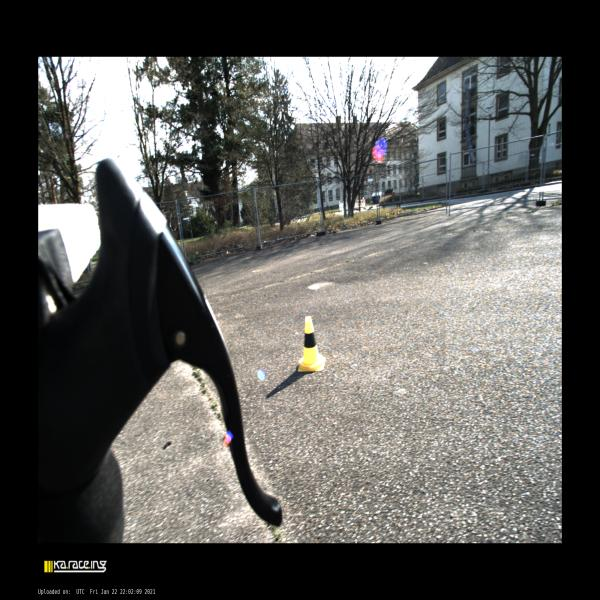yellow_cone: (298, 317, 325, 372)
